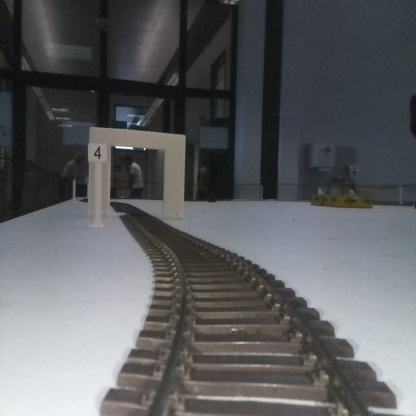white-info-4: (88, 144, 106, 226)
